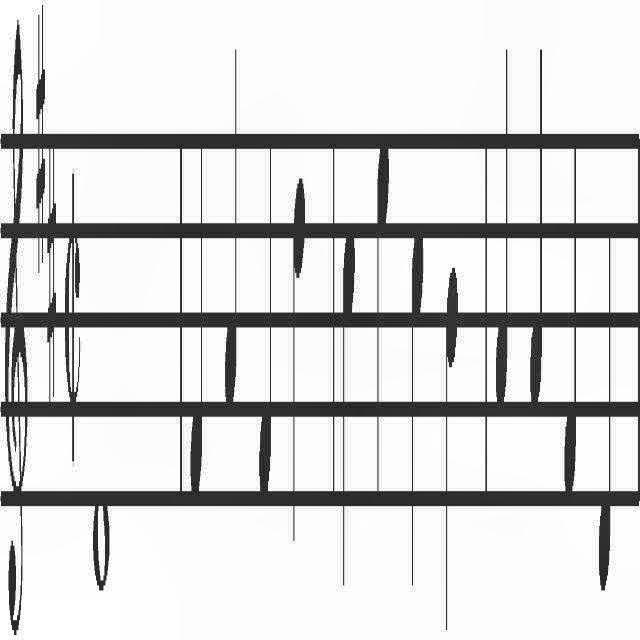Bass-clef: (6, 0, 30, 640)
Diez: (43, 99, 61, 409), (31, 1, 47, 336)
Full-note: (85, 455, 118, 625)
Quarter-note: (593, 223, 617, 640), (372, 74, 392, 574), (252, 107, 276, 521), (560, 82, 580, 570), (187, 75, 206, 538), (491, 0, 511, 412), (222, 24, 240, 472), (409, 157, 427, 579), (528, 34, 546, 426), (340, 190, 356, 600), (290, 150, 306, 550), (442, 223, 457, 640)
